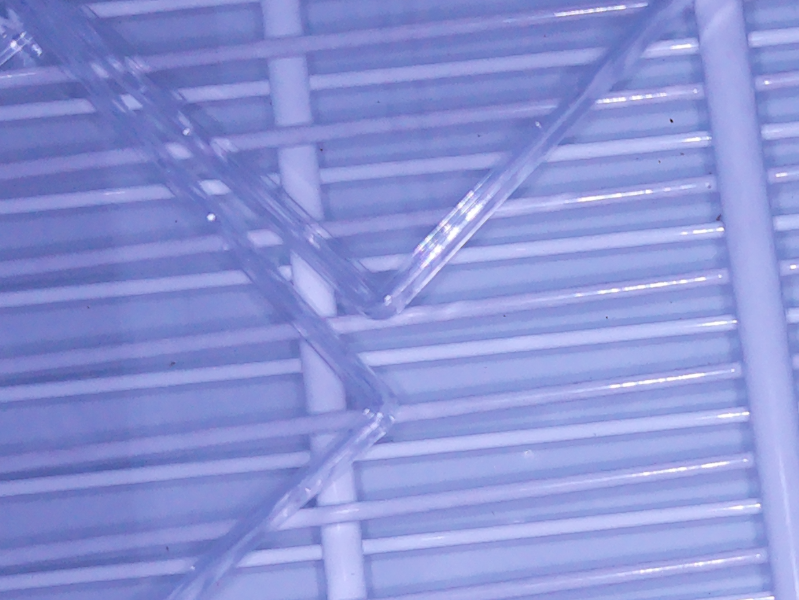plate: (1, 4, 400, 599), (8, 1, 685, 320)
